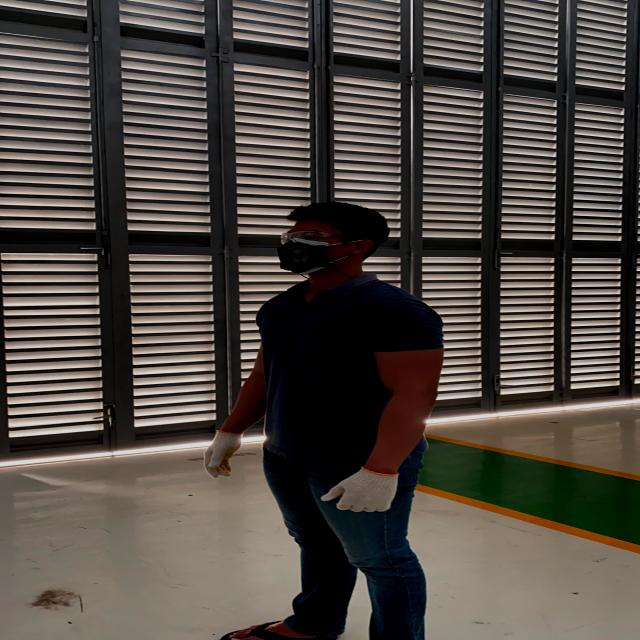face_mask: (270, 225, 340, 276)
glasses: (272, 226, 372, 246)
hand_glove: (311, 462, 423, 522), (186, 422, 255, 484)
head_nohelmet: (291, 194, 381, 233)
person: (189, 194, 463, 640)
